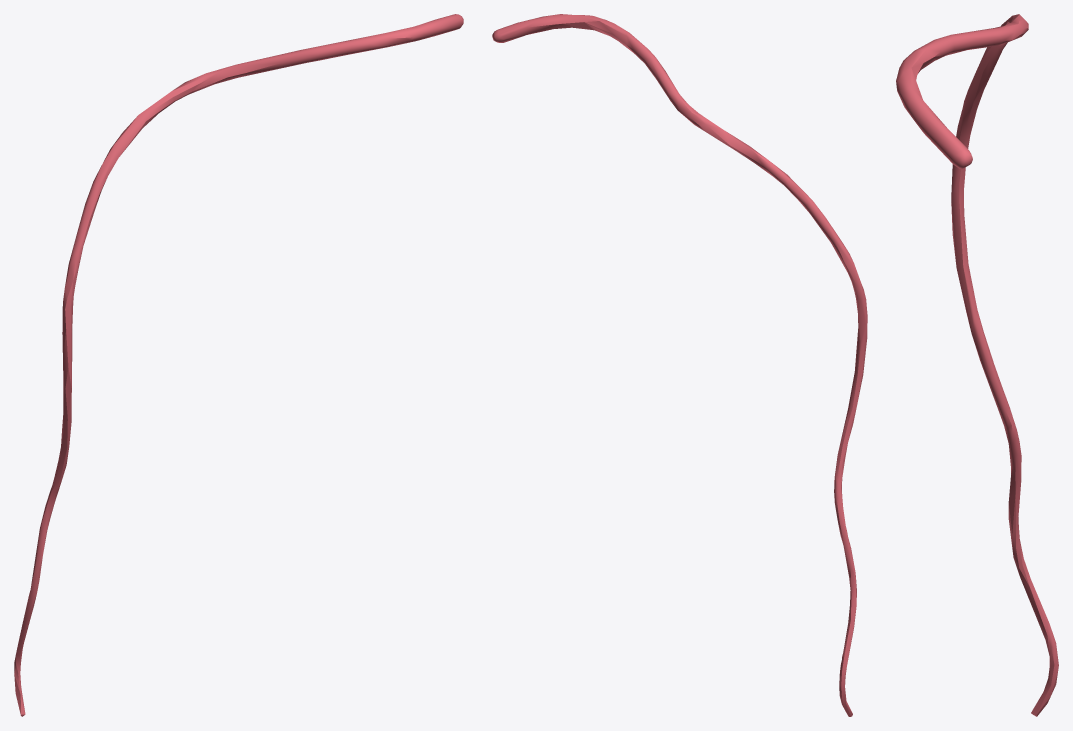
Rendered from fma14746_fj3620.glb.
3 renders of one model, left to right at view 1: azimuth 30°, elevation 25°; view 2: azimuth 150°, elevation 25°; view 3: azimuth 270°, elevation 25°, orthographic. The views are drawn at different scales.
Parts seen in each view (by area): view 1: FMA14746_FJ3620; view 2: FMA14746_FJ3620; view 3: FMA14746_FJ3620.
Part boxes in pixels (left/top/right/bottom): FMA14746_FJ3620: left=14, top=14, right=463, bottom=716; FMA14746_FJ3620: left=492, top=14, right=867, bottom=716; FMA14746_FJ3620: left=896, top=14, right=1058, bottom=716.
Bounding box in the file's own units: 0.0727 × 0.1072 × 0.0185.
